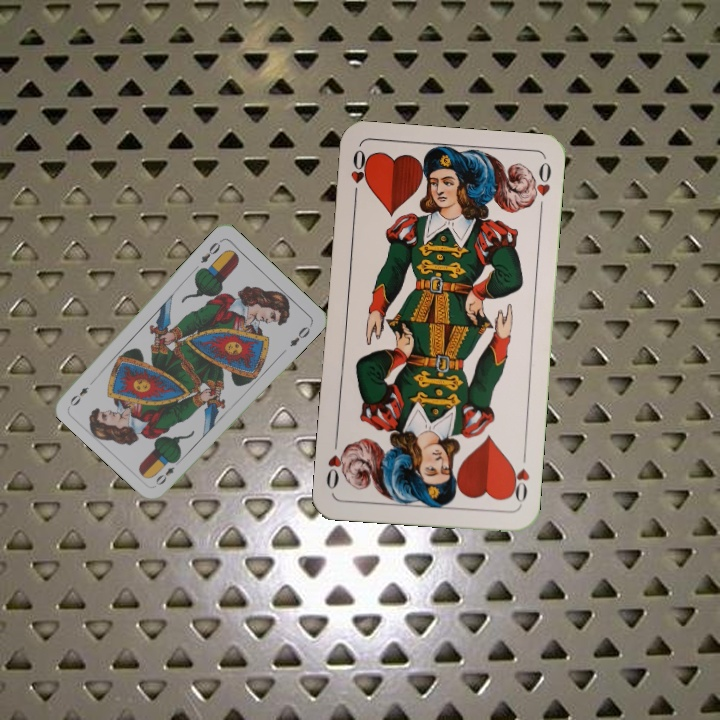EO: (151, 455, 183, 488), (196, 238, 223, 266)
HO: (505, 448, 532, 507), (346, 145, 371, 204)
